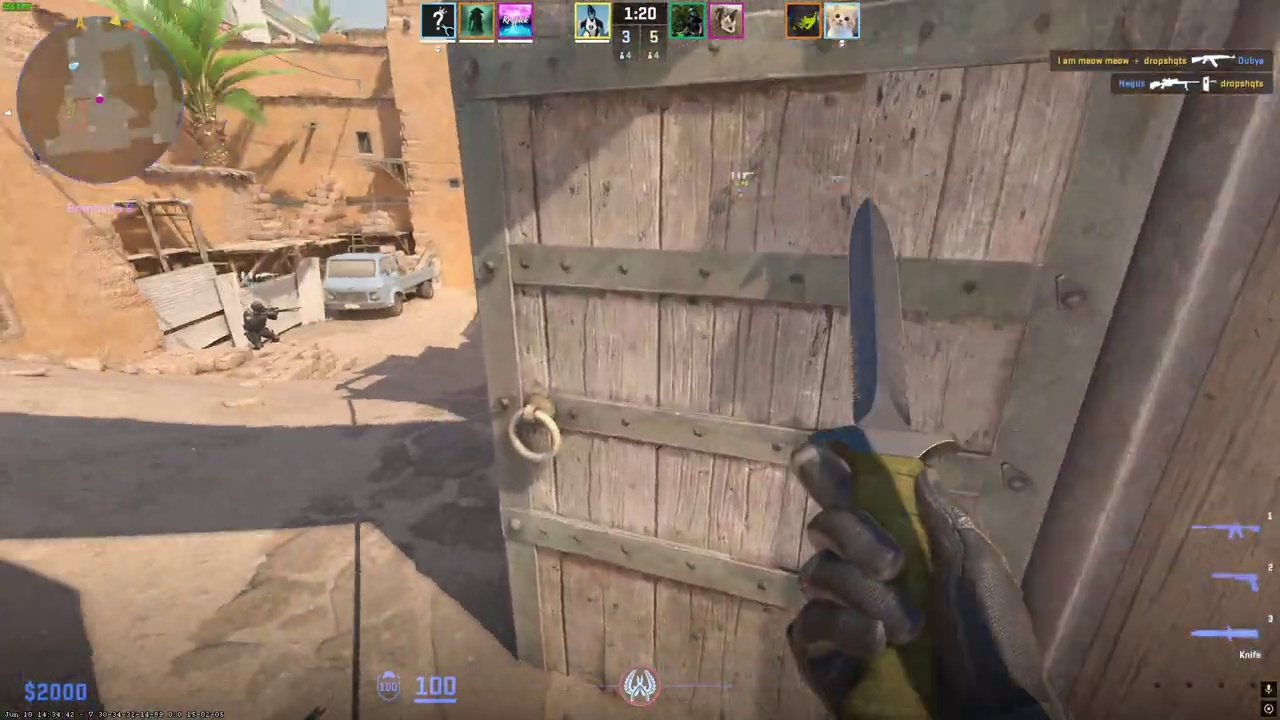CT: (242, 300, 276, 351)
